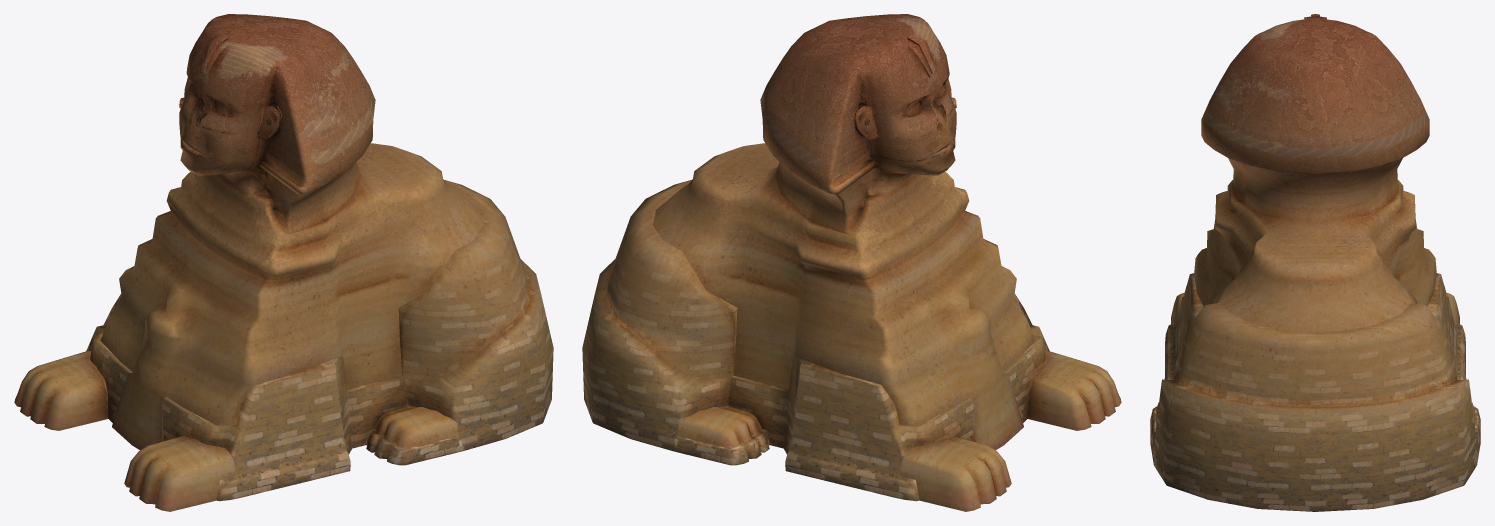
File: sphinx_statue_scale.glb
3 views of the same model, side by side, from view 1: azimuth 30°, elevation 25°; view 2: azimuth 150°, elevation 25°; view 3: azimuth 270°, elevation 25° (orthographic). The views are drawn at different scales.
Parts seen in each view (by area): view 1: Object_4; view 2: Object_4; view 3: Object_4.
Part boxes in pixels (box(x1,y1,x2,y2)): Object_4: box(14, 14, 553, 511); Object_4: box(582, 14, 1121, 511); Object_4: box(1150, 14, 1480, 511).
Bounding box in the file's own units: 17.17 × 14.43 × 11.94.
1 material, 1 textured.
